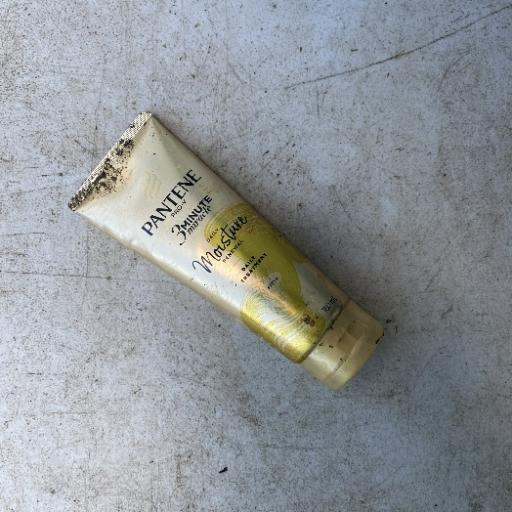Plastic: (65, 109, 386, 394)
